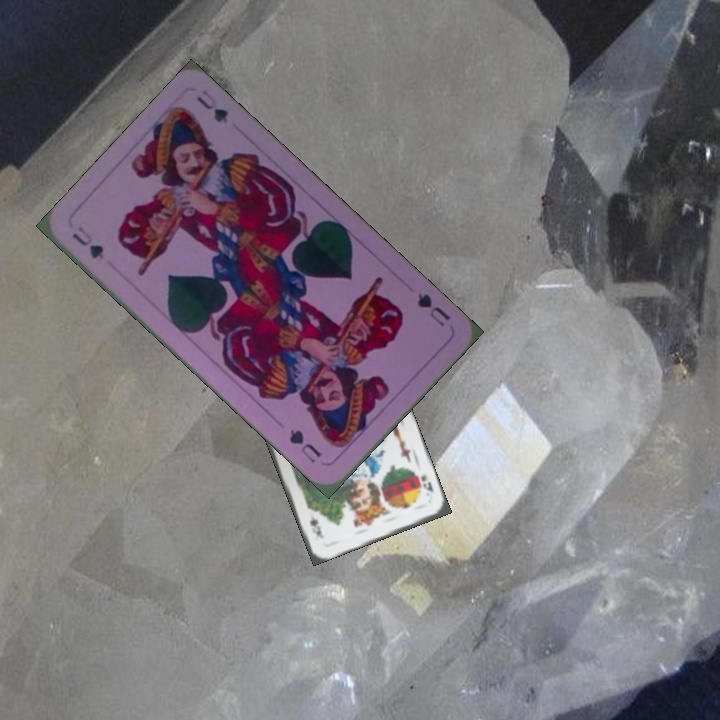GU: (413, 288, 453, 330), (68, 222, 107, 263)
SK: (416, 471, 436, 494)
